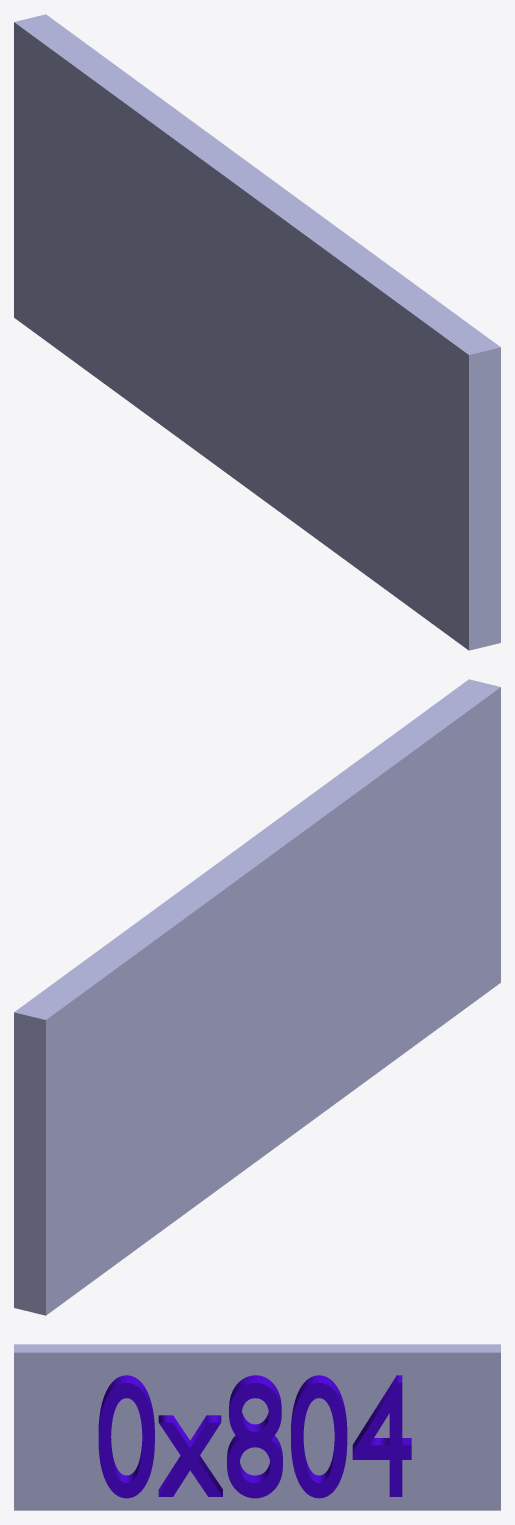
3 views of the same model, one above another, from view 1: azimuth 30°, elevation 25°; view 2: azimuth 150°, elevation 25°; view 3: azimuth 270°, elevation 25° (orthographic). The views are drawn at different scales.
Visible parts, largest first — view 1: Cube; view 2: Cube; view 3: Cube, Text.
Boxes of the visible parts, left/top/right/bottom form: Cube: left=14, top=14, right=500, bottom=650; Cube: left=14, top=679, right=500, bottom=1315; Cube: left=14, top=1344, right=500, bottom=1510; Text: left=98, top=1375, right=411, bottom=1498.
Size of the model in its own units: 2.65 by 12.33 by 34.39.
